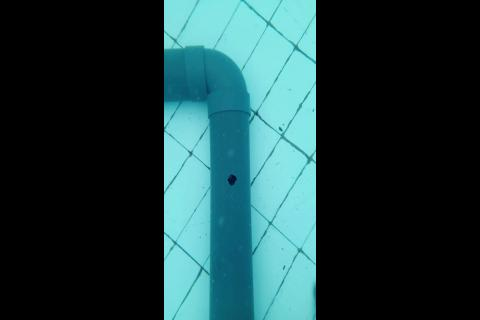kebocoran: (226, 172, 237, 187)
